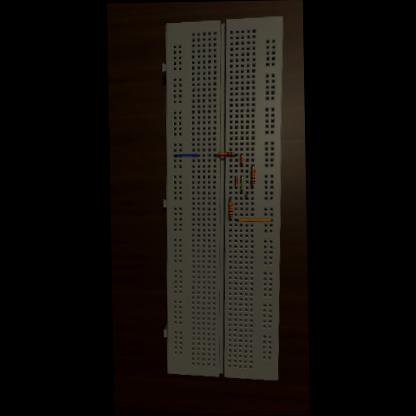breadboard: (158, 14, 289, 380)
resistor: (250, 168, 255, 182), (228, 200, 232, 215), (218, 150, 232, 154)
wire: (234, 216, 272, 220), (174, 153, 200, 156), (240, 174, 243, 192), (236, 174, 238, 187), (240, 154, 242, 166), (246, 192, 248, 198), (214, 153, 218, 155), (252, 183, 254, 187), (233, 152, 236, 154), (230, 216, 231, 219), (230, 197, 231, 200), (252, 164, 253, 166)
